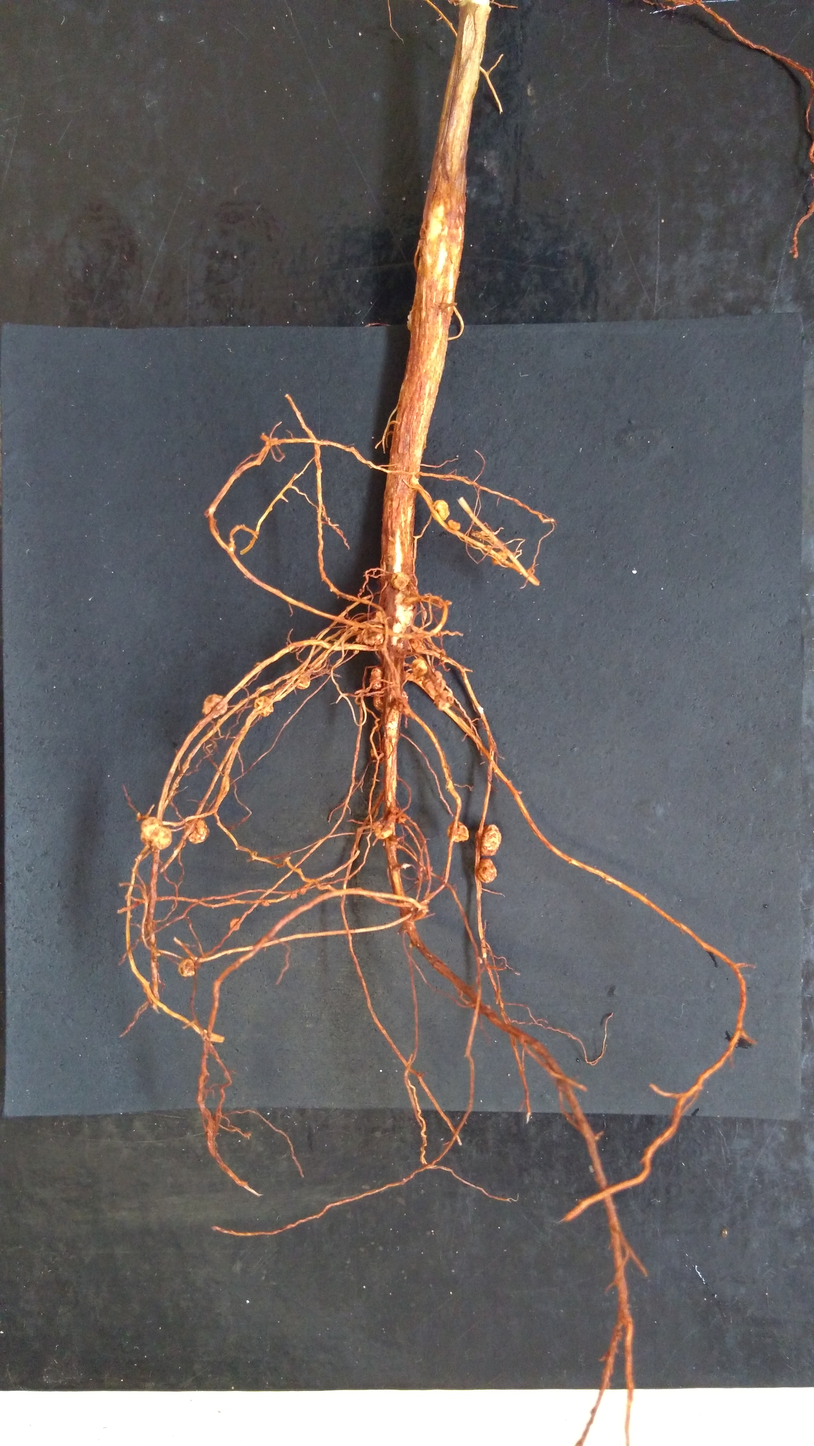nodule: (136, 815, 174, 853), (473, 823, 504, 857), (370, 687, 409, 713), (182, 818, 212, 847), (420, 670, 447, 698), (201, 692, 230, 718), (474, 857, 499, 885), (446, 820, 471, 845), (370, 820, 395, 843), (253, 695, 275, 717), (433, 689, 454, 712), (361, 627, 384, 646), (390, 571, 410, 591), (368, 666, 384, 691), (409, 658, 430, 677), (432, 499, 450, 521), (177, 957, 196, 977), (294, 676, 311, 691), (446, 518, 462, 532), (229, 917, 241, 931), (287, 887, 298, 899), (354, 633, 364, 644), (261, 898, 270, 908), (298, 887, 307, 894)
